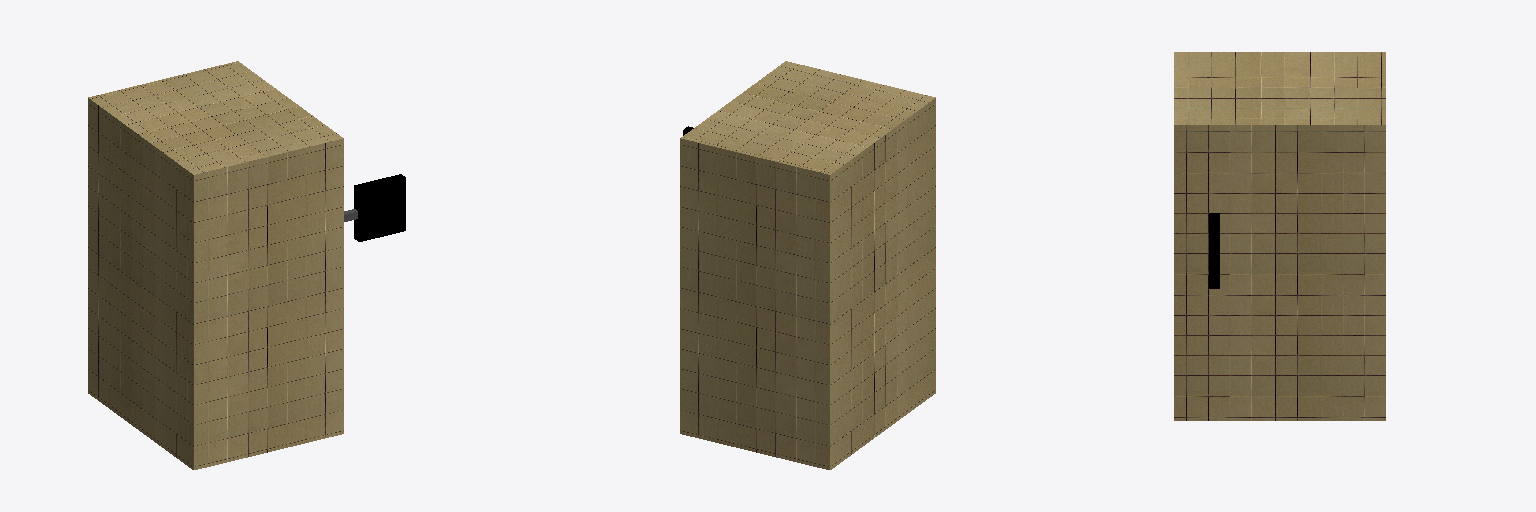
3 renders of one model, left to right at view 1: azimuth 30°, elevation 25°; view 2: azimuth 150°, elevation 25°; view 3: azimuth 270°, elevation 25°, orthographic.
Parts seen in each view (by area): view 1: wall, sign; view 2: wall; view 3: wall, sign.
Boxes of the visible parts, <box> form: wall: <box>88,61,343,469</box>; sign: <box>344,174,405,241</box>; wall: <box>680,61,935,469</box>; wall: <box>1174,52,1385,420</box>; sign: <box>1209,213,1219,288</box>.
Bounding box in the file's own units: 19.74 × 24.21 × 15.71.
4 materials, 1 textured.